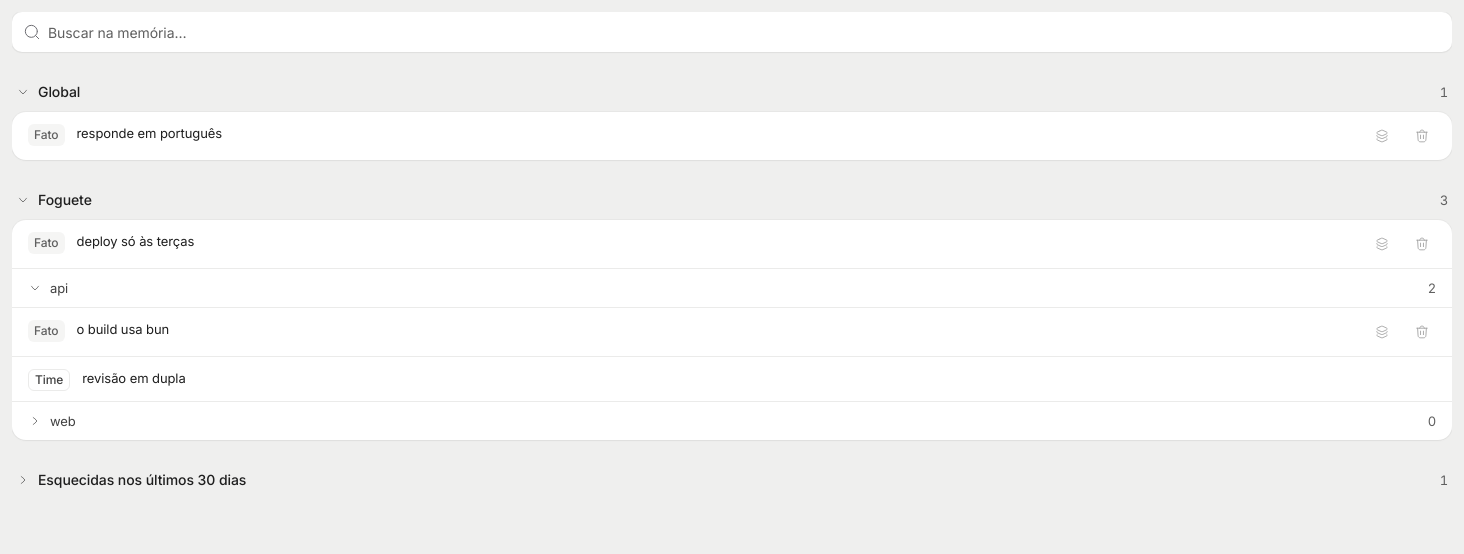
Test: aba de memória › mover leva a memória para outro lugar
The width and height of the screenshot is (1464, 554).
Press Enter in the button named "Mover: o build usa bun", box [1368, 318, 1396, 346]
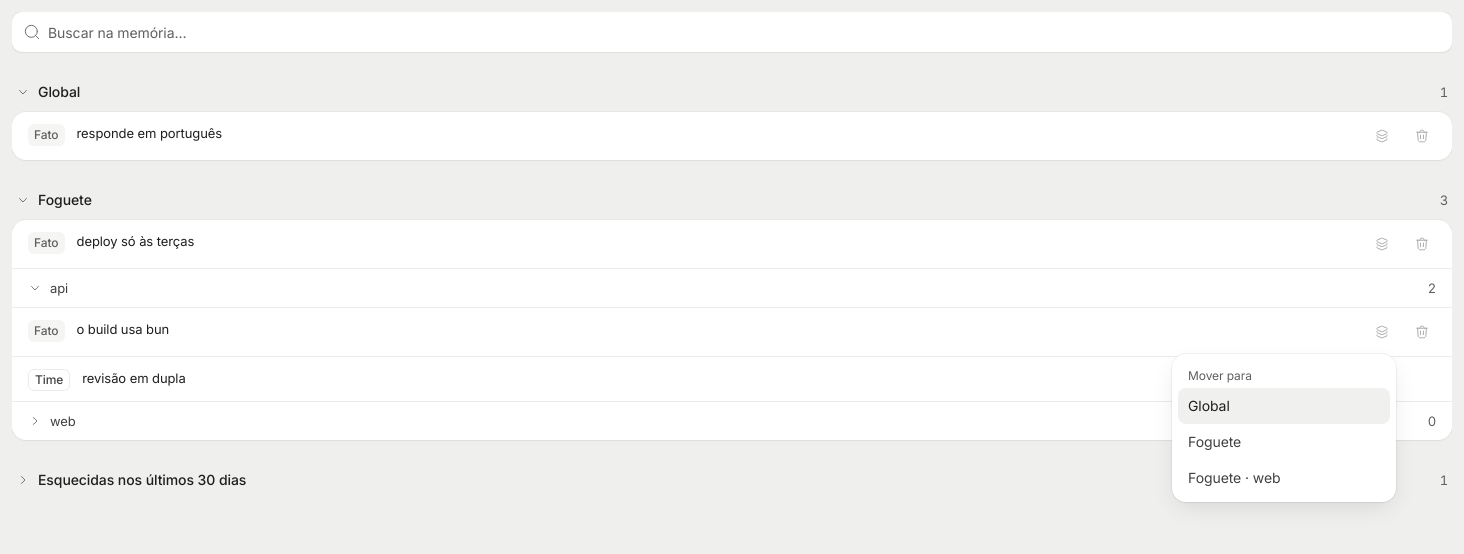
Click the menu item "Foguete". click: (1215, 442)
box: [1188, 433, 1241, 450]
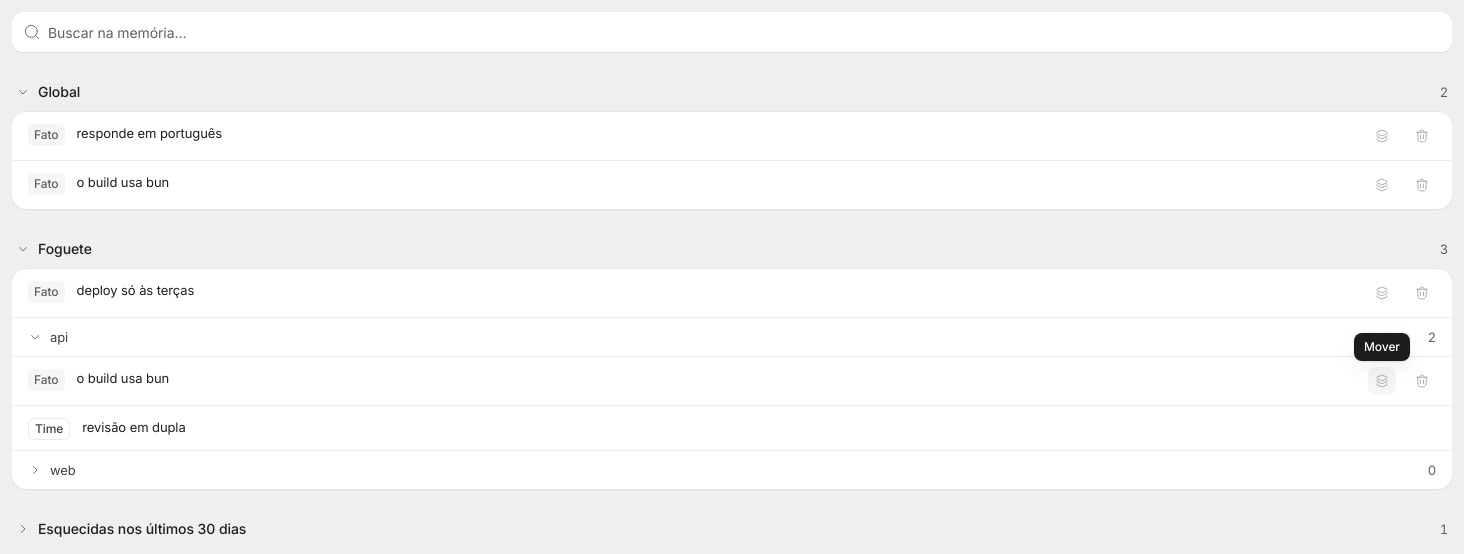
Now the list named "Global" shows "o build usa bun", box [76, 174, 169, 190]
